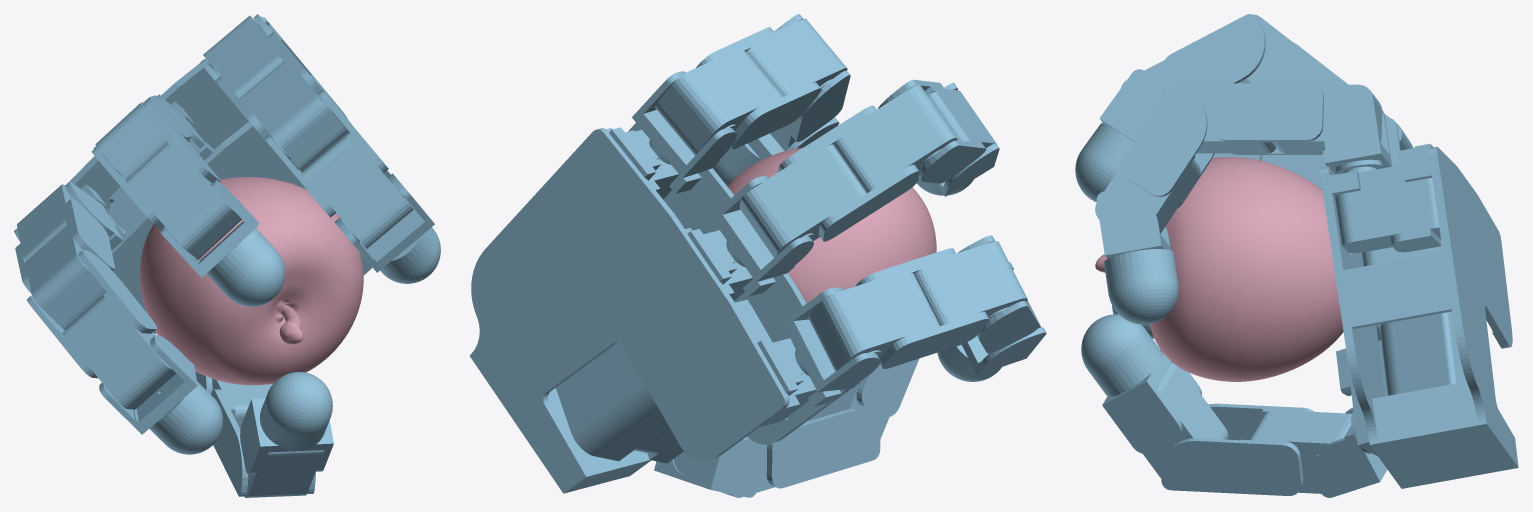
3 renders of one model, left to right at view 1: azimuth 30°, elevation 25°; view 2: azimuth 150°, elevation 25°; view 3: azimuth 270°, elevation 25°, orthographic. The views are drawn at different scales.
Visible parts, largest first — view 1: world, apple.stl; view 2: world, apple.stl; view 3: world, apple.stl.
Boxes of the visible parts, x1=… form: world: x1=14, y1=14, x2=440, y2=497; apple.stl: x1=139, y1=177, x2=363, y2=385; world: x1=469, y1=14, x2=1046, y2=497; apple.stl: x1=727, y1=147, x2=936, y2=303; world: x1=1075, y1=14, x2=1518, y2=497; apple.stl: x1=1095, y1=157, x2=1343, y2=381.
Bounding box in the file's own units: 0.1713 × 0.1586 × 0.1504.
